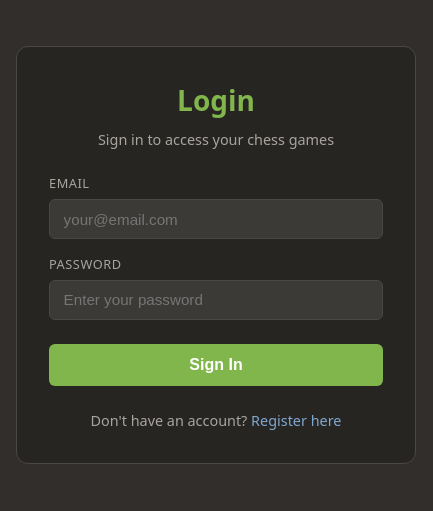
Test case: LoginPage validation › shows error when email is empty
Click the button "Sign In" at (216, 365), box x1=49 y1=344 x2=383 y2=386
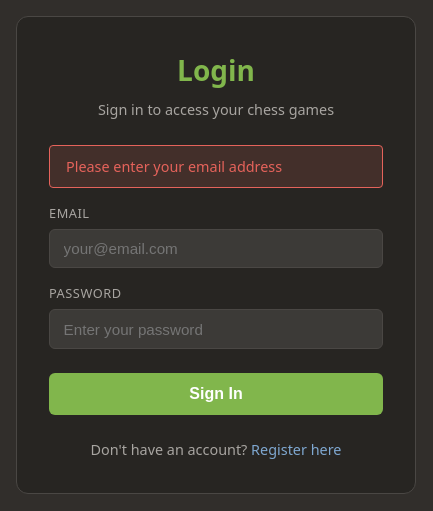
Check: the text "Please enter your email address" is shown, box x1=49 y1=145 x2=383 y2=188
